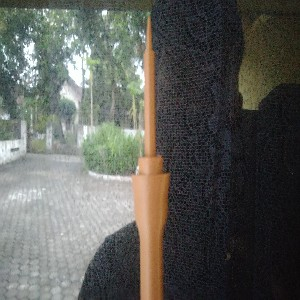solder: (130, 15, 172, 300)
